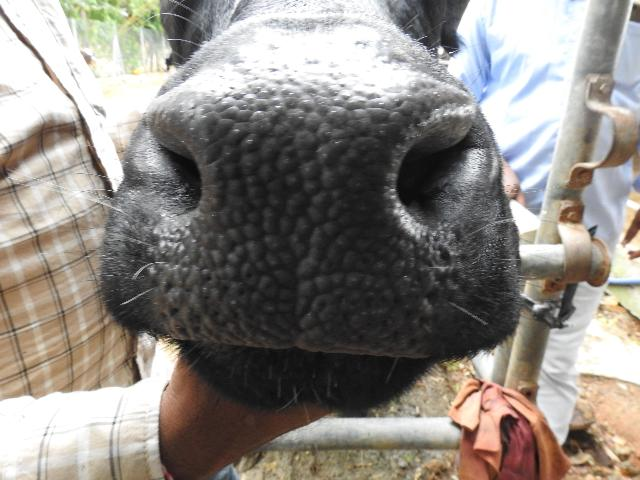Muzzle: (206, 71, 402, 335)
